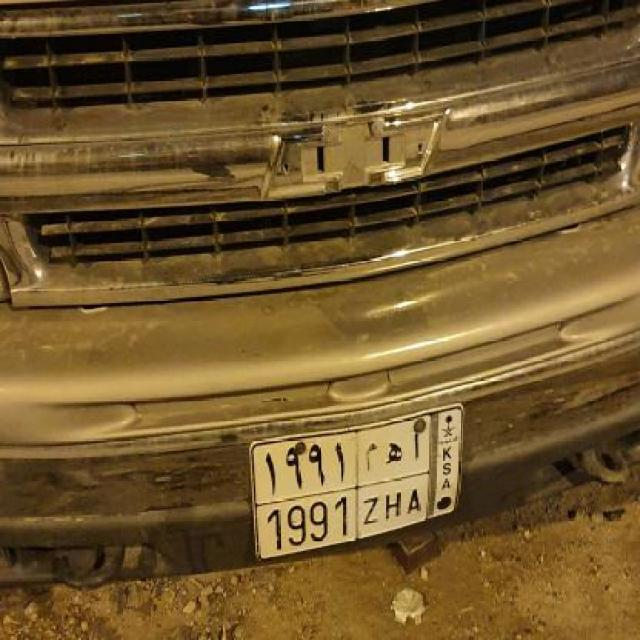license_plate: (248, 400, 466, 566)
